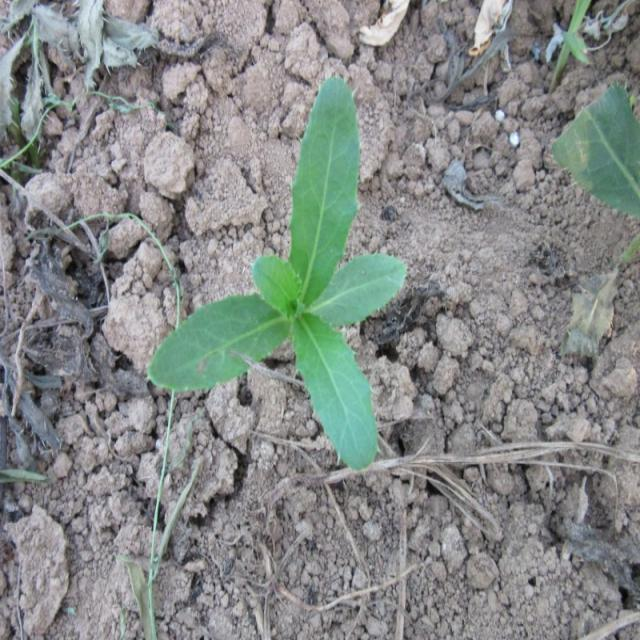cs: (146, 78, 409, 472)
